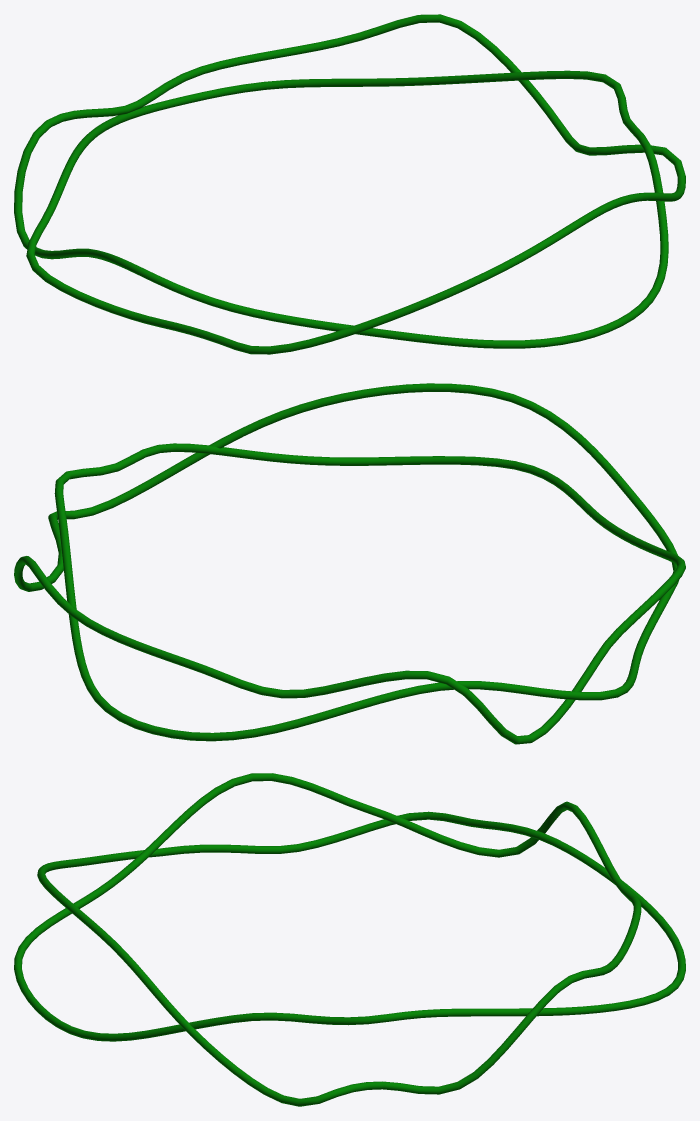
The model's file is Vine.fbx.
3 views of the same model, one above another, from view 1: azimuth 30°, elevation 25°; view 2: azimuth 150°, elevation 25°; view 3: azimuth 270°, elevation 25° (orthographic). The views are drawn at different scales.
Visible parts, largest first — view 1: Vine; view 2: Vine; view 3: Vine.
Part boxes in pixels (x1,y1,x2,y2): Vine: (14, 14, 685, 354); Vine: (14, 383, 685, 744); Vine: (14, 773, 685, 1106).
Size of the model in its own units: 8.32 by 1.45 by 8.4.
